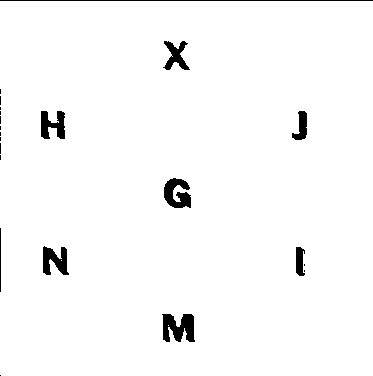I: (290, 243, 312, 284)
